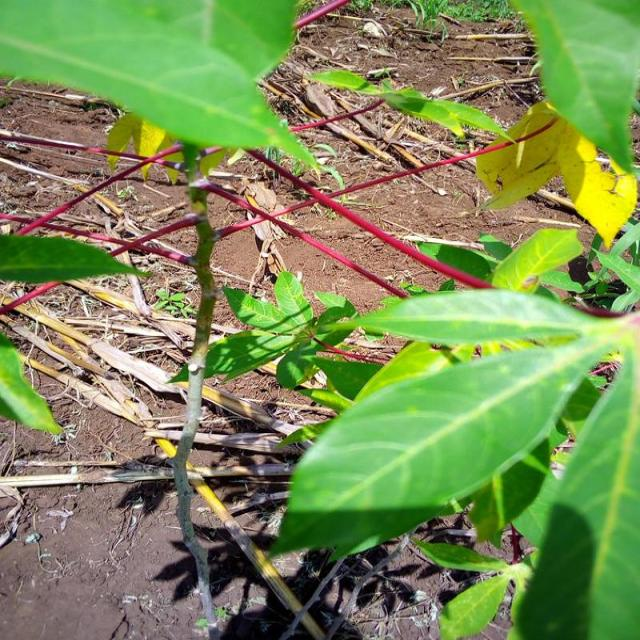cassava leaf: (266, 335, 604, 563), (0, 0, 329, 180), (508, 0, 638, 178)
